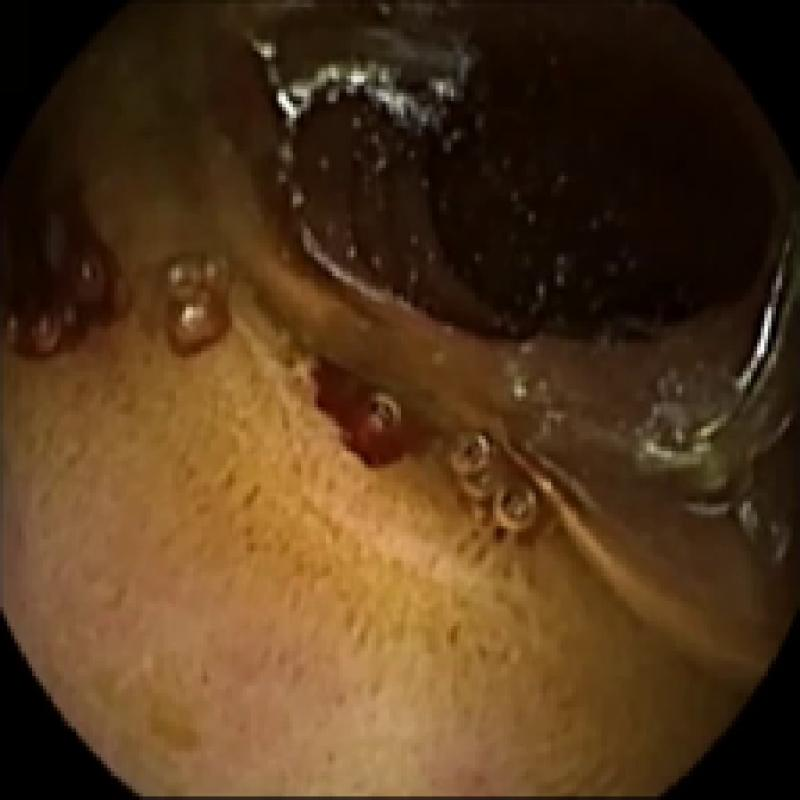bleeding: (0, 114, 136, 354), (310, 364, 435, 470)
